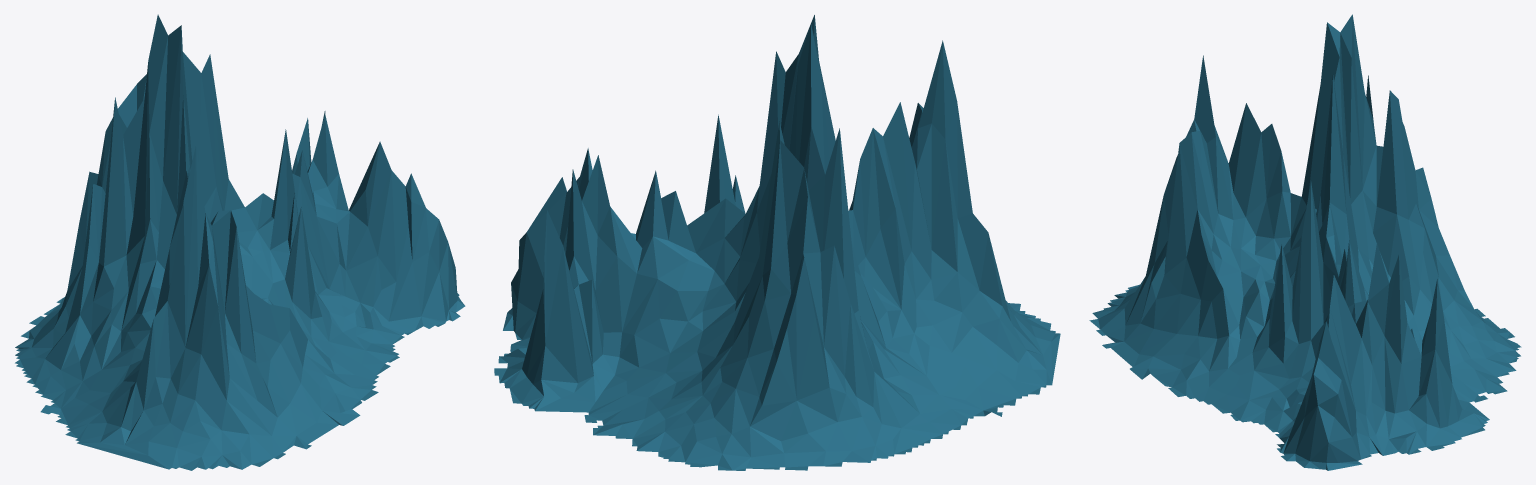
The model's file is Mountain01.fbx.
The picture shows the model from 3 angles, left to right: view 1: azimuth 30°, elevation 25°; view 2: azimuth 150°, elevation 25°; view 3: azimuth 270°, elevation 25°; orthographic projection. The views are drawn at different scales.
Parts seen in each view (by area): view 1: Plane; view 2: Plane; view 3: Plane.
Part boxes in pixels (x1=…): Plane: x1=15, y1=14, x2=465, y2=470; Plane: x1=494, y1=15, x2=1060, y2=470; Plane: x1=1089, y1=14, x2=1521, y2=470.
Bounding box in the file's own units: 413 × 308 × 372.
